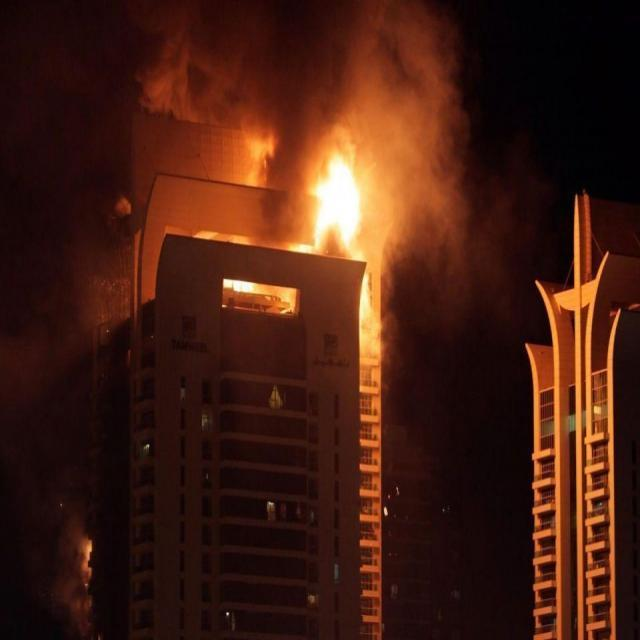Fire: (299, 106, 391, 316)
